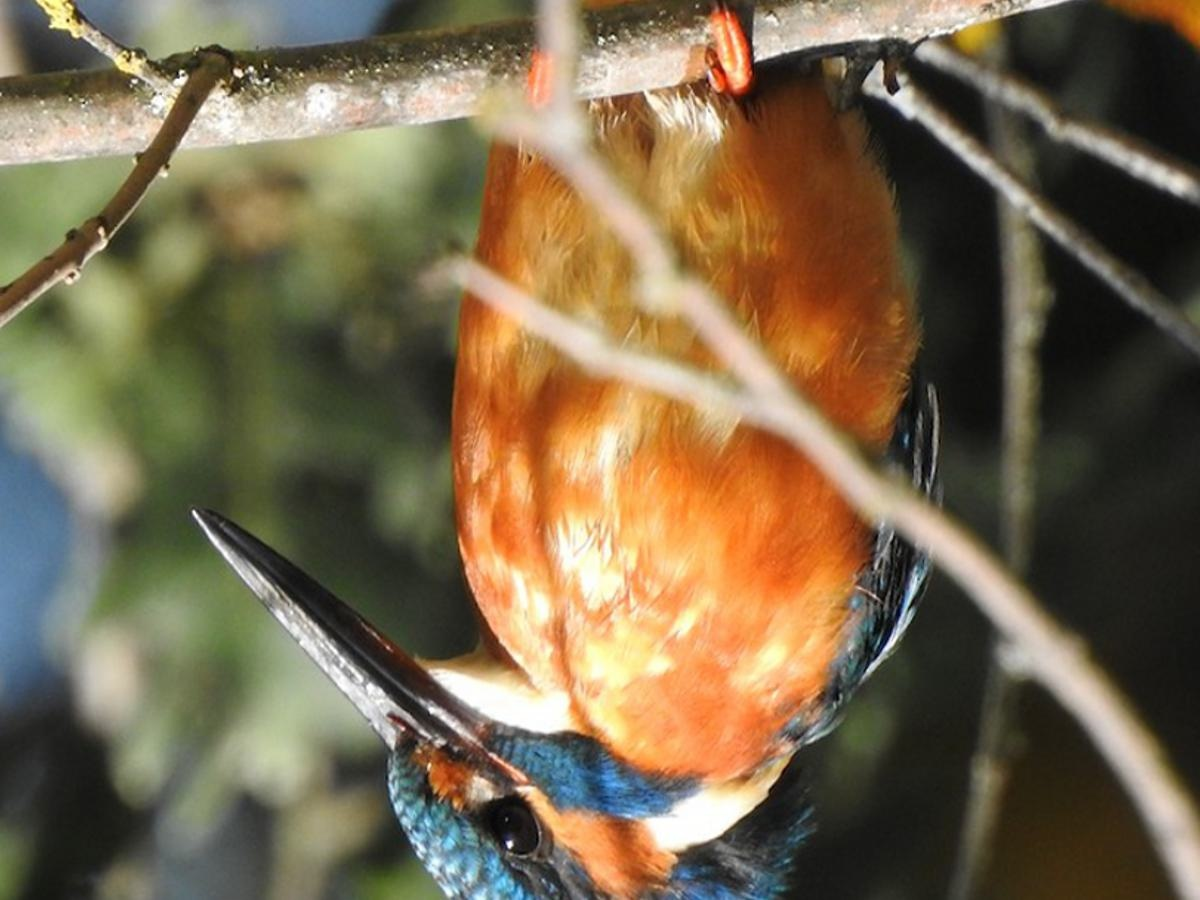kingfisher: (195, 52, 931, 896)
